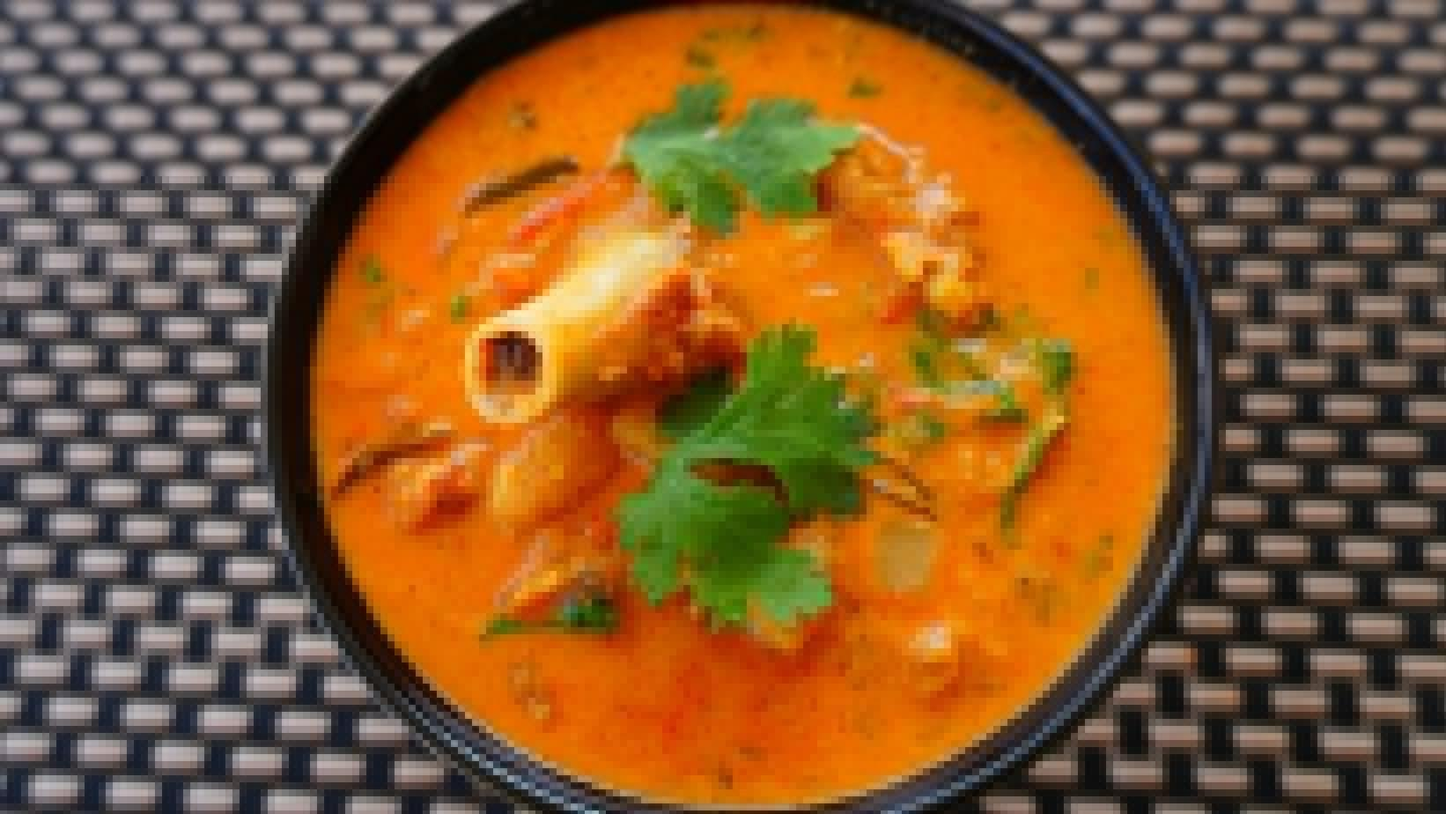MuttonCurry: (311, 1, 1172, 808)
